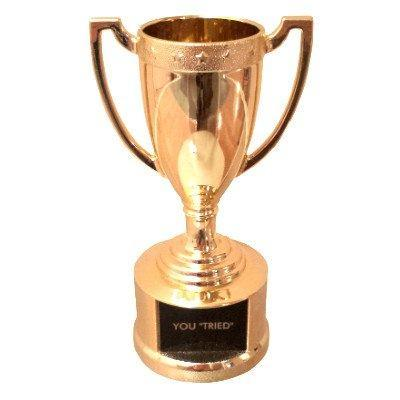trophy: (88, 14, 320, 385)
